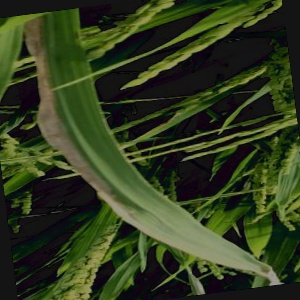Leaf_Blast: (31, 14, 96, 178)
